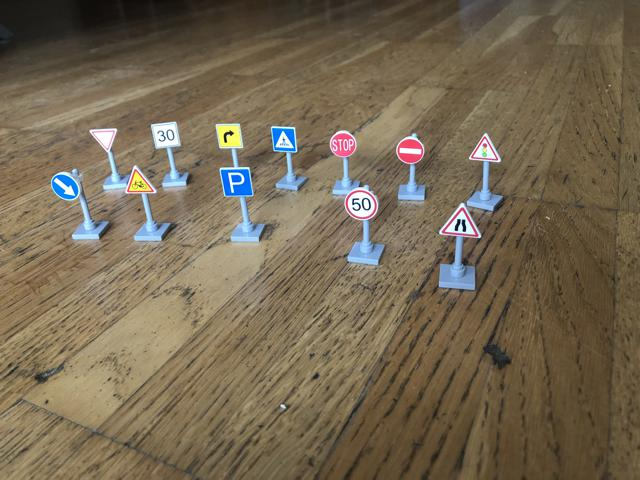fahrtrichtung rechts: (215, 123, 244, 151)
fußgängerüberweg: (267, 123, 300, 154)
lichtzeichenanlage: (469, 134, 501, 165)
parken: (218, 167, 252, 199)
radfahrer: (126, 165, 157, 196)
rechts halten: (51, 167, 80, 203)
stop: (327, 130, 358, 157)
tempolimit 30: (151, 121, 181, 149)
tempolimit 50: (345, 189, 379, 222)
verbot der einfahrt: (395, 138, 426, 165)
verengte fahrbahn: (438, 205, 481, 240)
vorfahrt gewähren: (90, 126, 120, 154)
